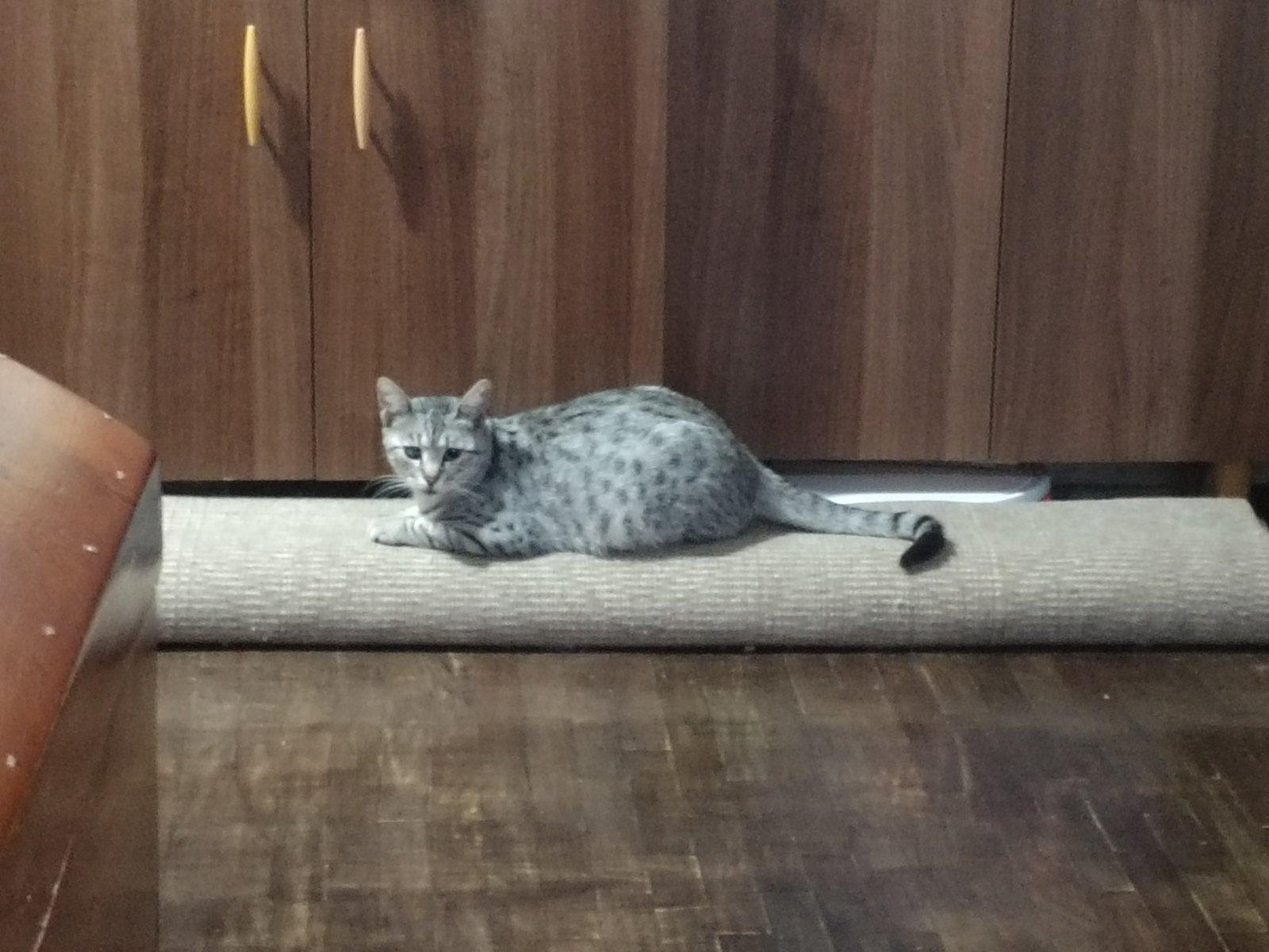macka: (365, 370, 956, 578)
